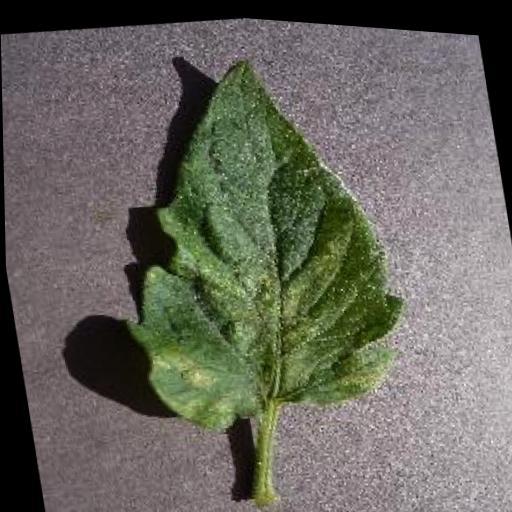Spider Mites: (86, 27, 416, 451)
